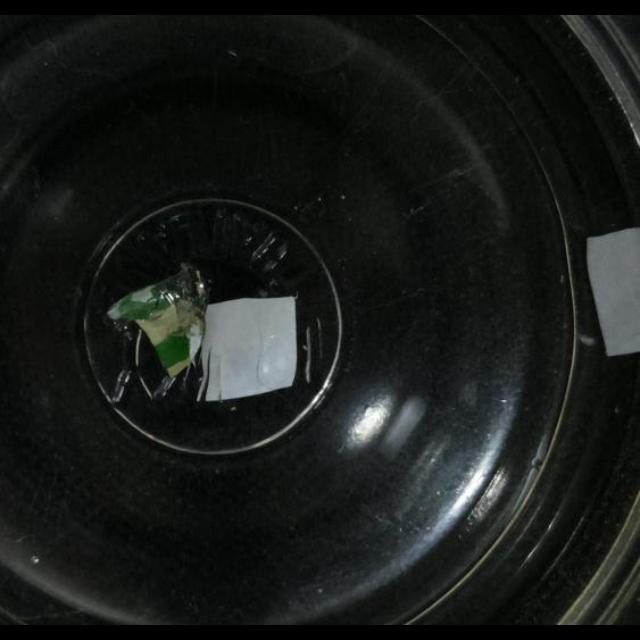Fragment: (106, 268, 208, 380), (198, 295, 298, 403), (584, 225, 638, 358)
